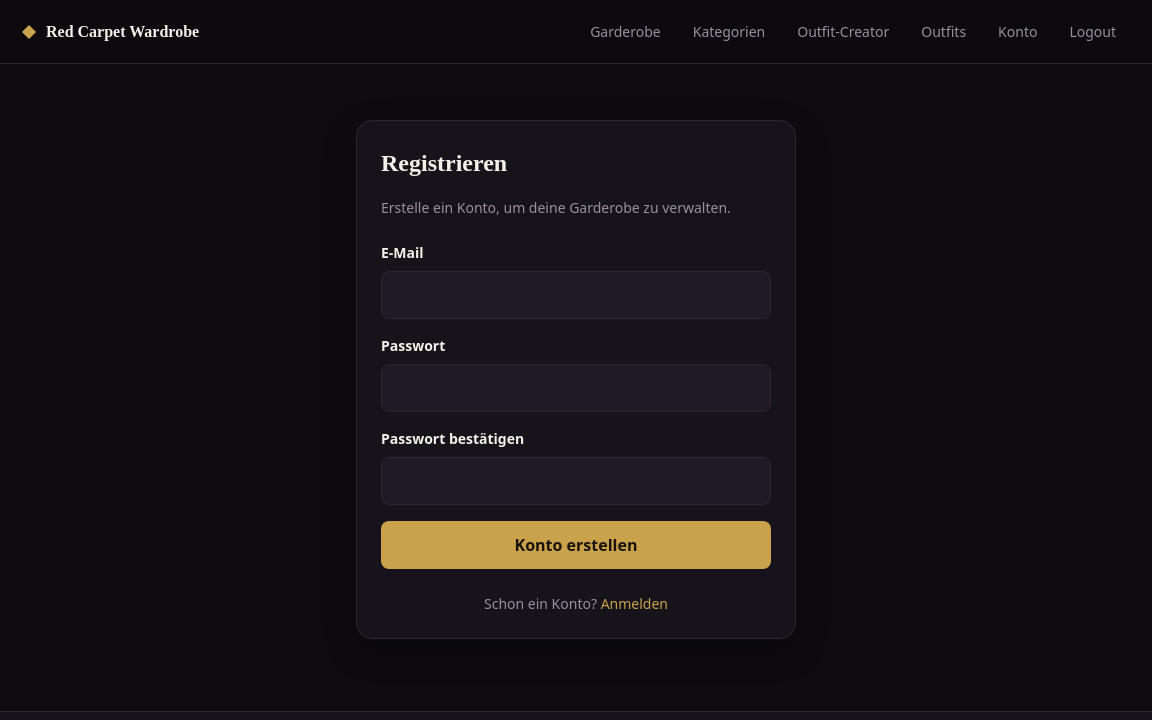
Test: RegisterPage › validiert das Formular clientseitig vor dem Absenden
Type "anna@example.com" into the field labelled "E-Mail".
click(576, 295); type("anna@example.com")  # box x1=381 y1=271 x2=771 y2=319
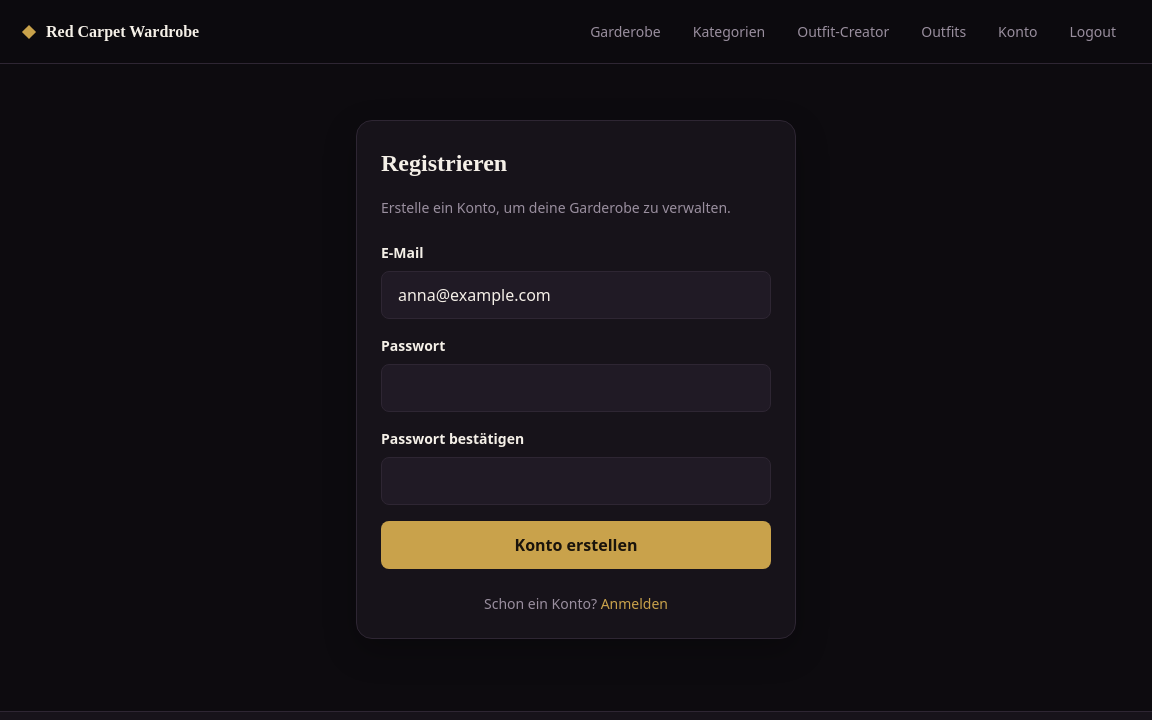
Type "geheim123" into the password field labelled "Passwort".
click(576, 388); type("geheim123")  # box x1=381 y1=364 x2=771 y2=412
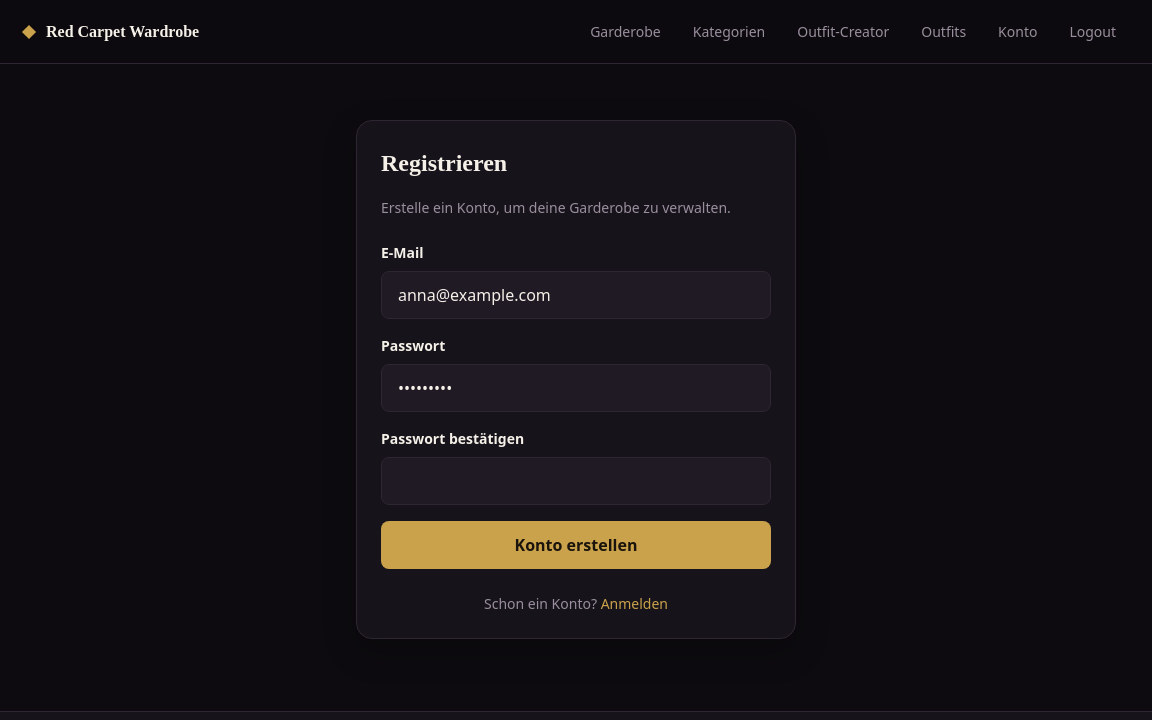
Type "anders123" into the password field labelled "Passwort bestätigen".
click(576, 481); type("anders123")  # box x1=381 y1=457 x2=771 y2=505
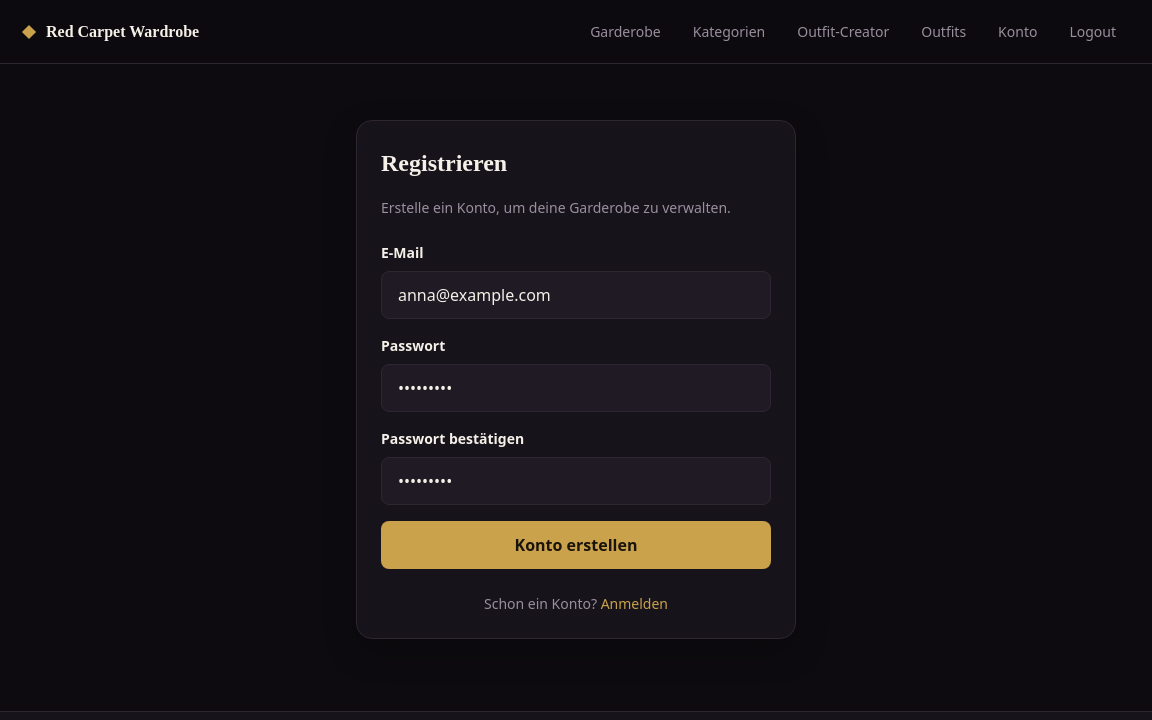
Click the button "Konto erstellen".
click(576, 545)  # box x1=381 y1=521 x2=771 y2=569
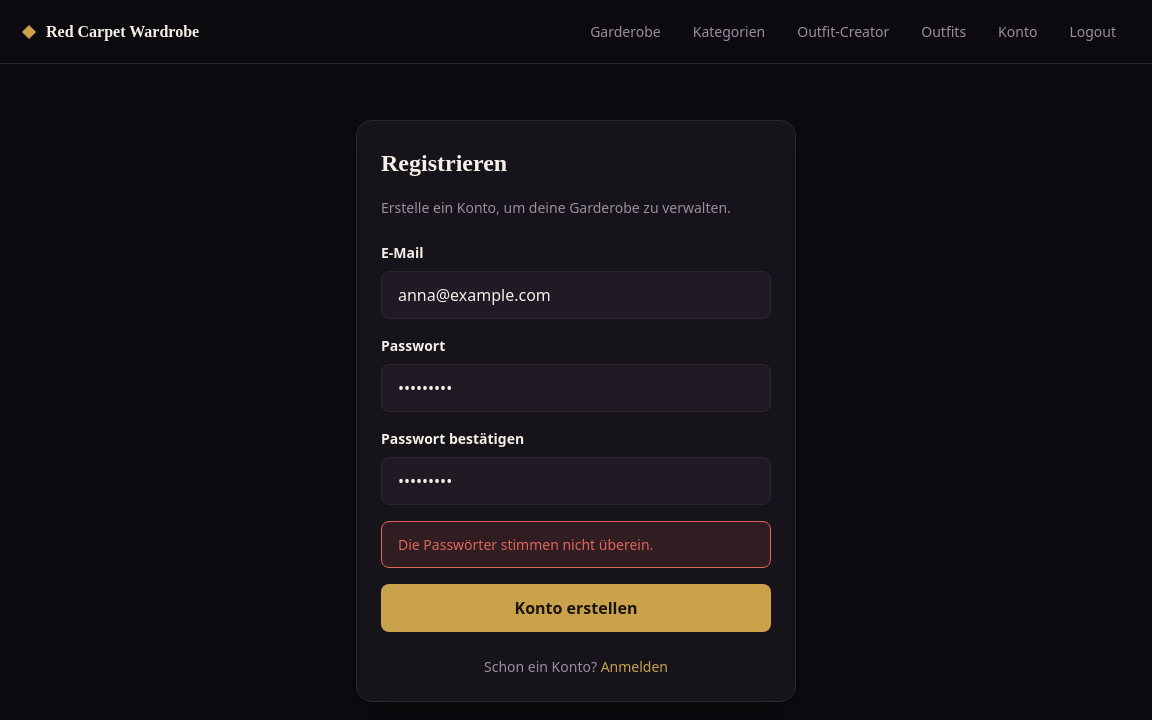
Expected: the message shows "Die Passwörter stimmen nicht überein", x1=398 y1=535 x2=653 y2=554
